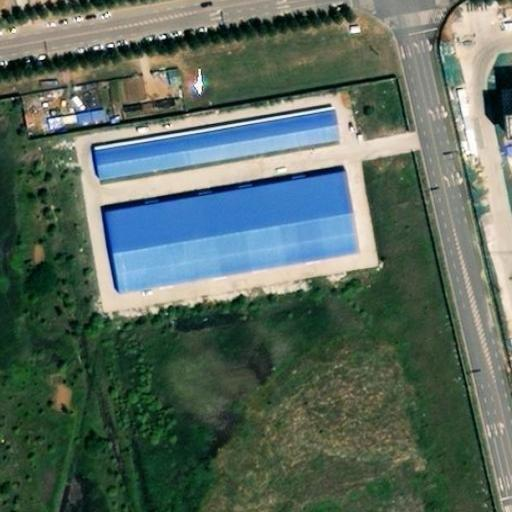building: (108, 186, 363, 308), (93, 123, 336, 197), (489, 104, 512, 146), (116, 69, 145, 100), (61, 477, 82, 510)
